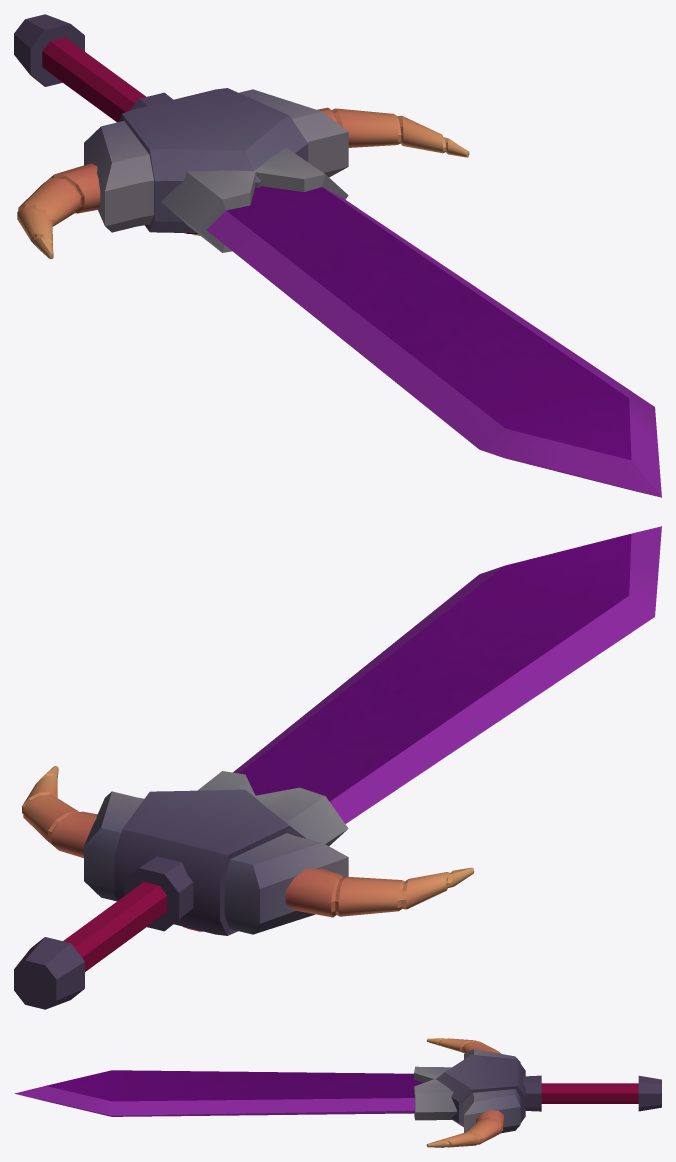
File: Enemy_Weapon_1.fbx
3 views of the same model, one above another, from view 1: azimuth 30°, elevation 25°; view 2: azimuth 150°, elevation 25°; view 3: azimuth 270°, elevation 25° (orthographic). The views are drawn at different scales.
Parts seen in each view (by area): view 1: polySurface2; view 2: polySurface2; view 3: polySurface2.
Part boxes in pixels (x1,y1,x2,y2): polySurface2: (14, 14, 661, 497); polySurface2: (14, 526, 661, 1009); polySurface2: (14, 1038, 661, 1147).
Size of the model in its own units: 45.89 by 10.93 by 118.
